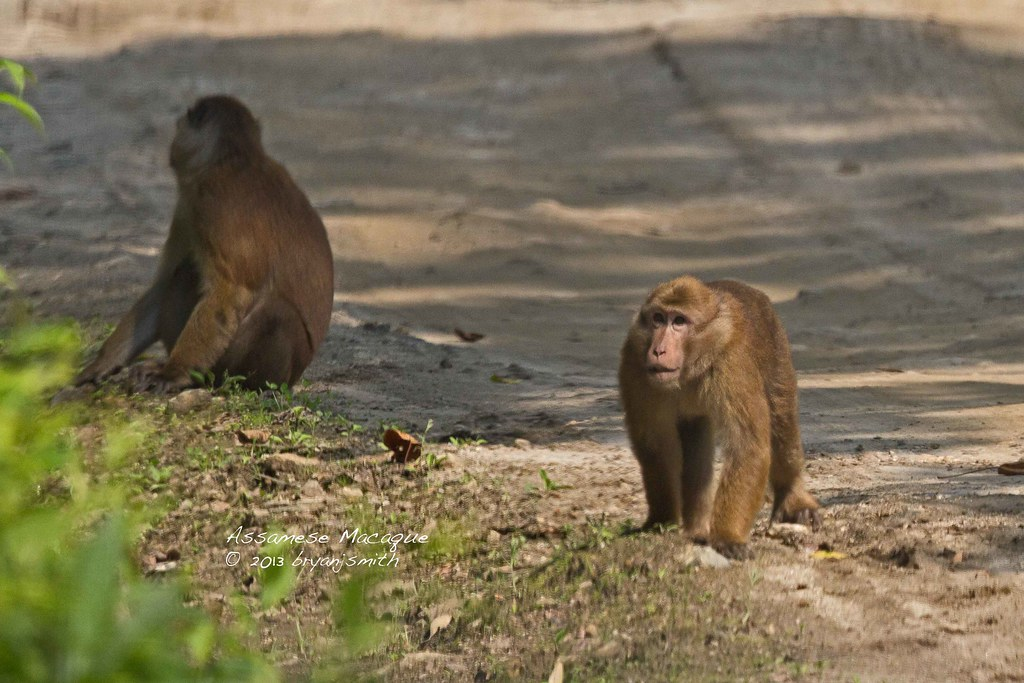monkey: (68, 85, 357, 452), (572, 268, 852, 568)
